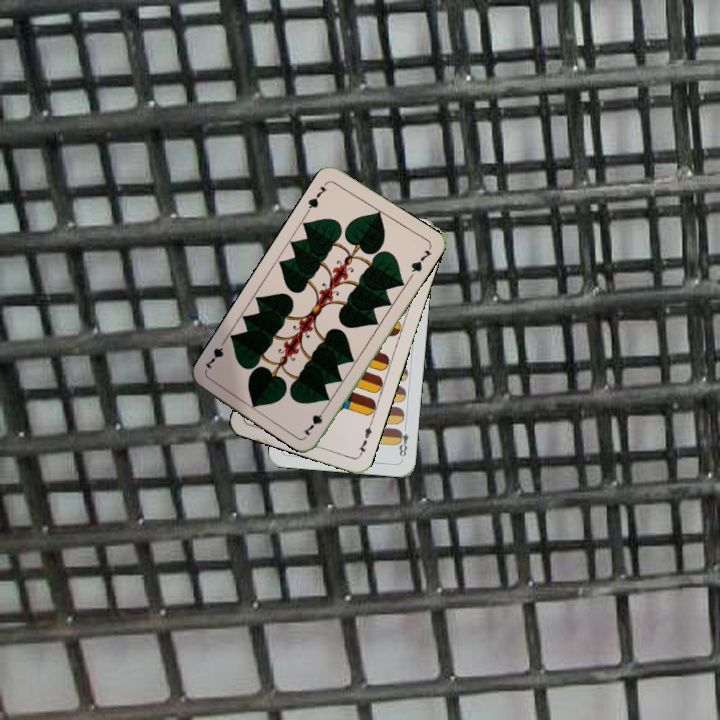E7: (354, 419, 375, 458)
E8: (393, 421, 411, 461)
G7: (299, 402, 330, 438), (303, 178, 330, 214)
